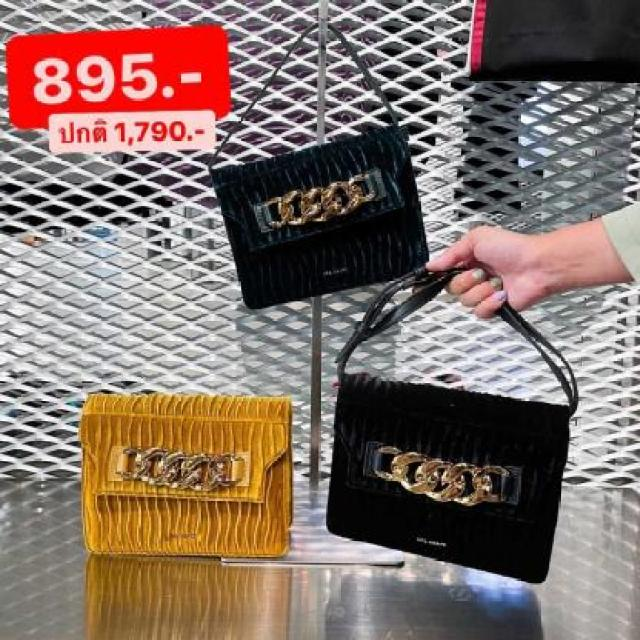Bag: (262, 209, 604, 597), (167, 2, 459, 332), (59, 336, 298, 615)
